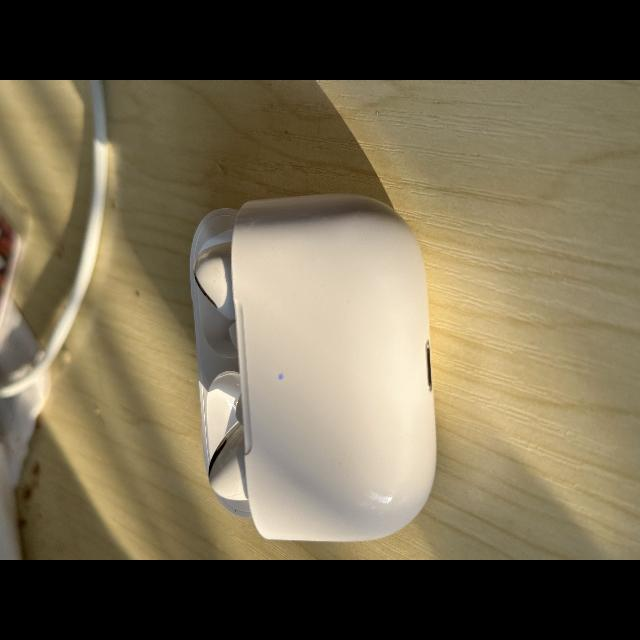AirPods Pro: (190, 194, 436, 542)
